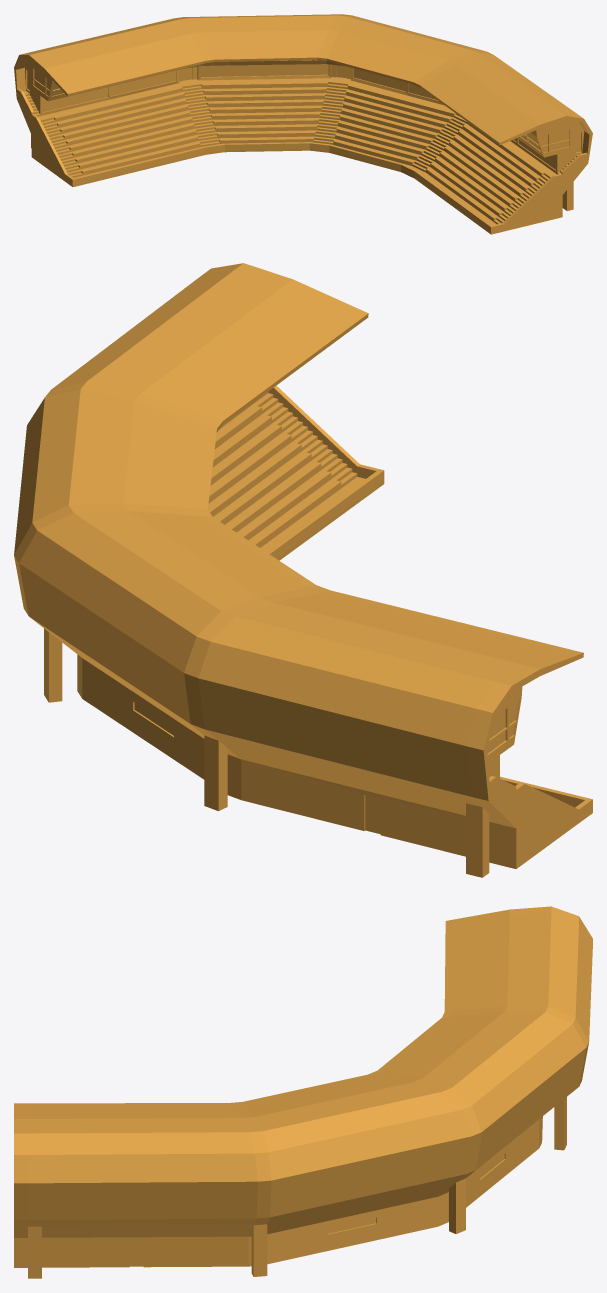
The model's file is tribune-curve.fbx.
The picture shows the model from 3 angles, top to bottom: view 1: azimuth 30°, elevation 25°; view 2: azimuth 150°, elevation 25°; view 3: azimuth 270°, elevation 25°; orthographic projection. The views are drawn at different scales.
Visible parts, largest first — view 1: tribune-curve; view 2: tribune-curve; view 3: tribune-curve.
Part boxes in pixels (x1,y1,x2,y2): tribune-curve: (14,14,592,234); tribune-curve: (14,263,592,877); tribune-curve: (14,906,592,1278).
Size of the model in its own units: 41.52 by 10.84 by 41.52.
